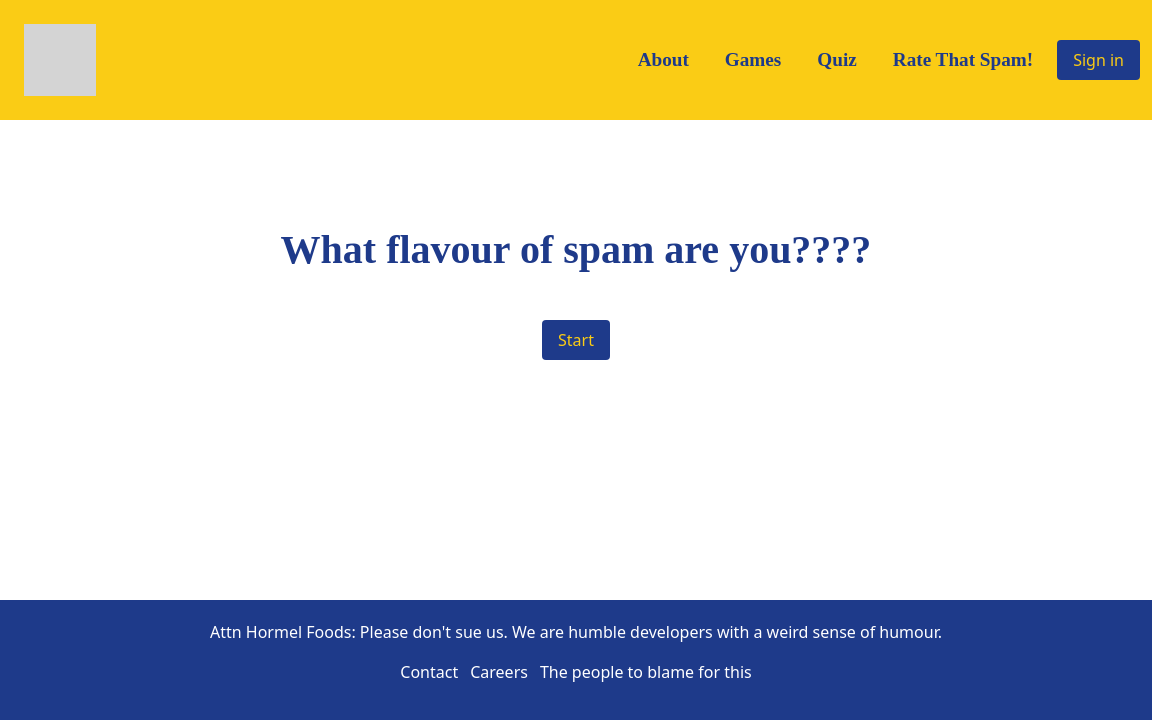
Test: <Quiz> › should render the right quiz questions data
The image size is (1152, 720).
Click the button "Start" at [576, 340], box [542,320,610,360]
(page scrolled)
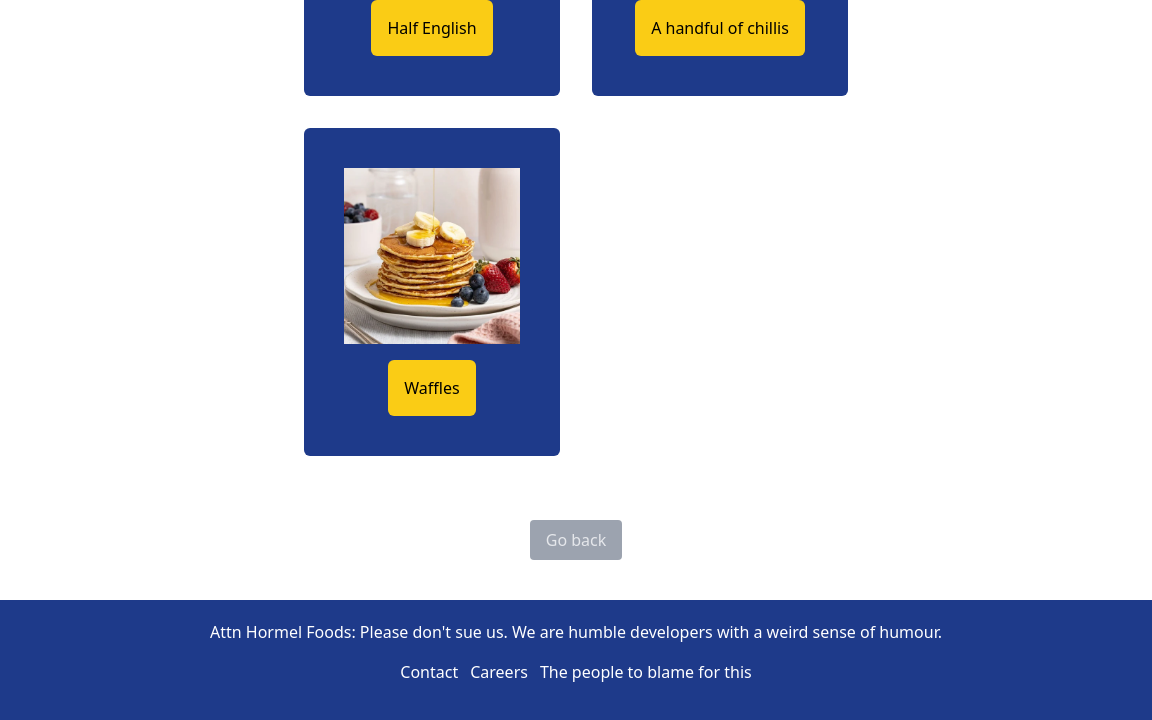
Expected: the text "Waffles" is shown, [388,360,476,416]
